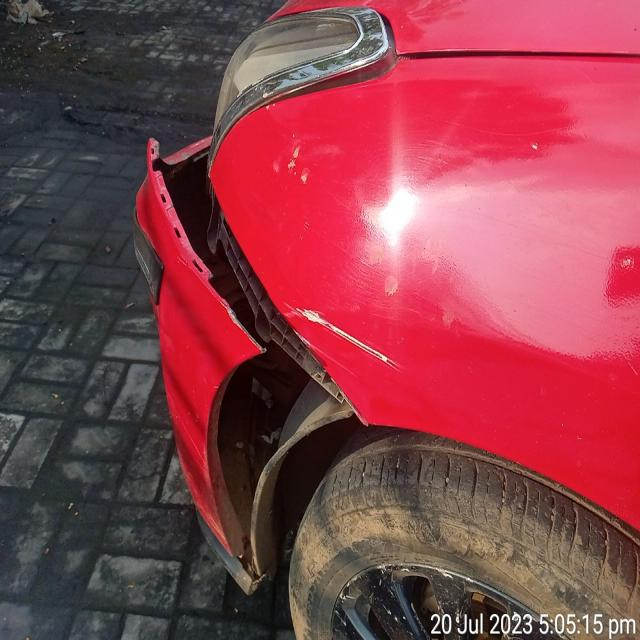damage: (110, 133, 316, 540), (290, 276, 407, 382)
